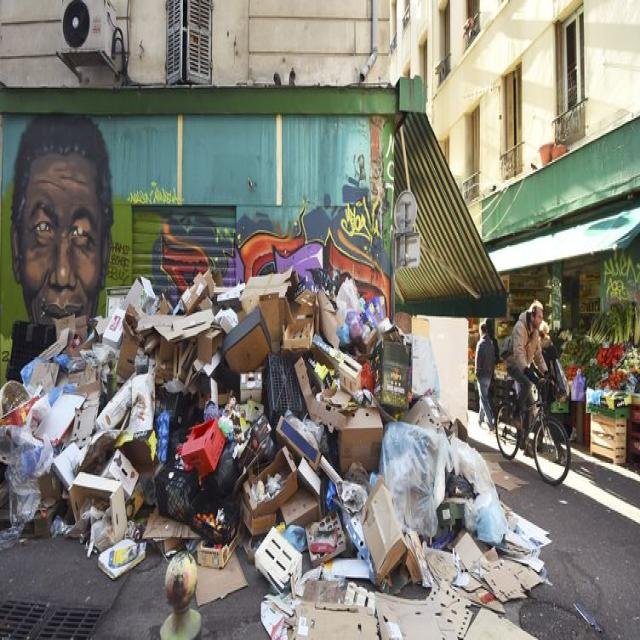garbage: (32, 248, 502, 629)
